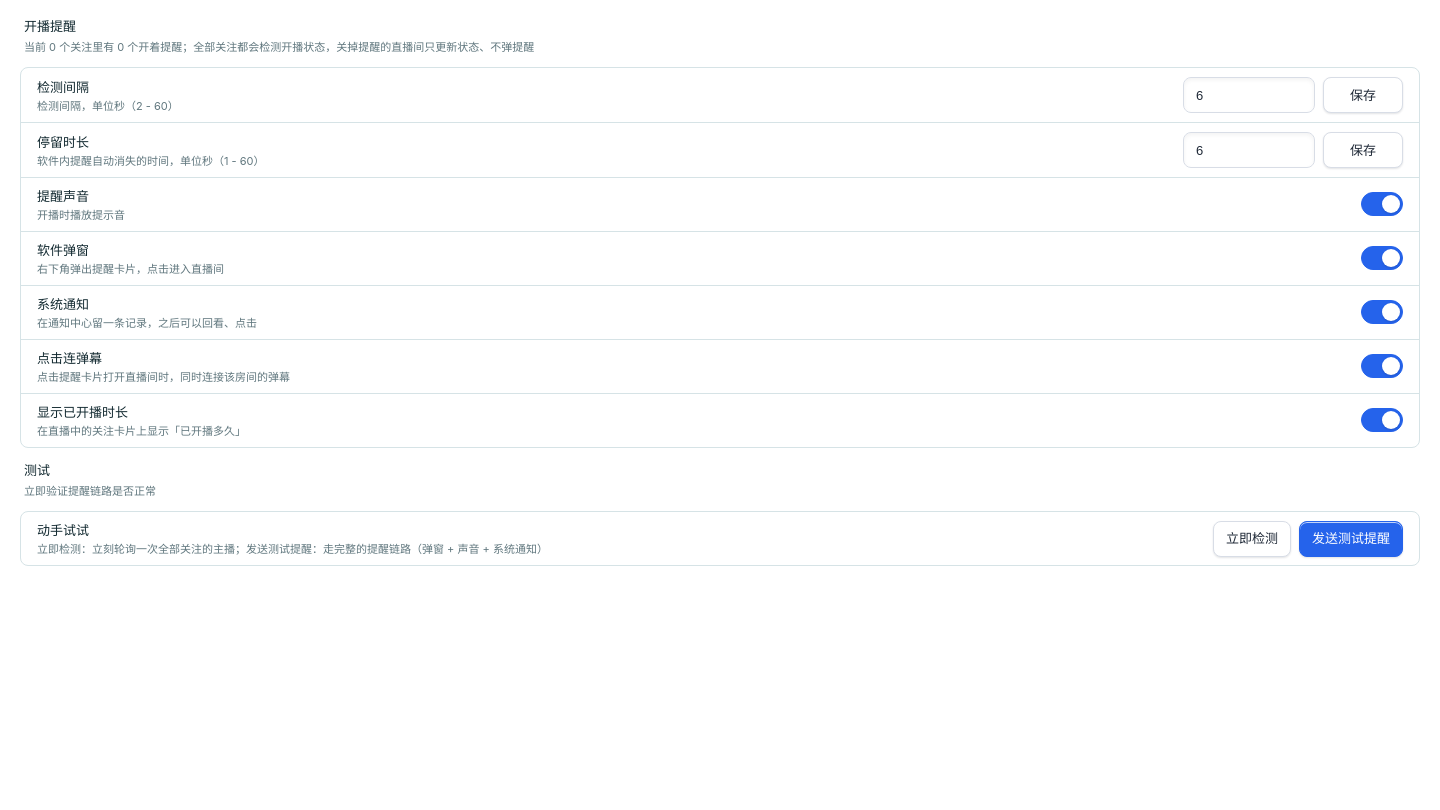
开关保存失败仍显示原状态并报告错误
Click the switch named "提醒声音" at [1382, 204], box [1361,192,1403,216]
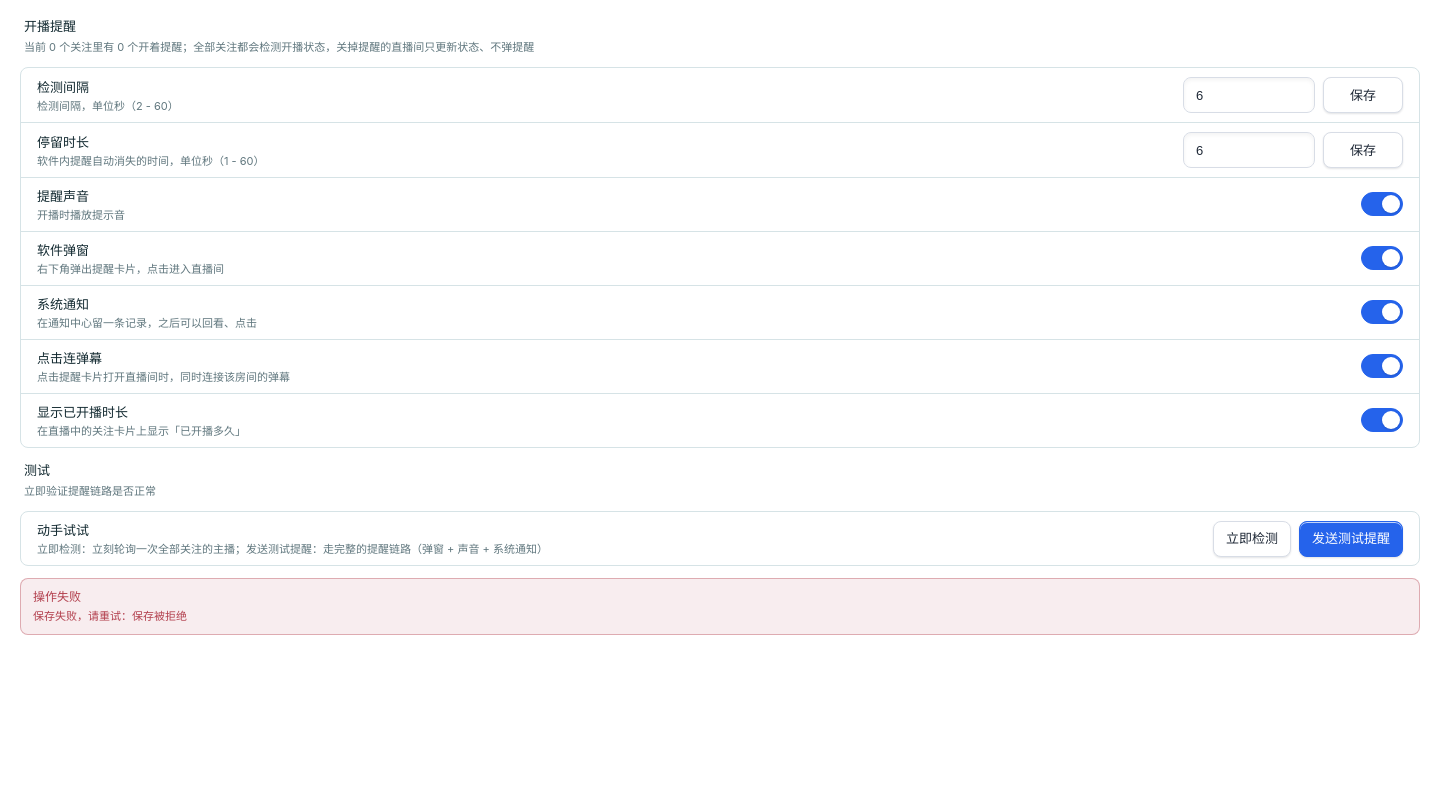
Result: the message shows "保存被拒绝" at [33,609,187,623]
